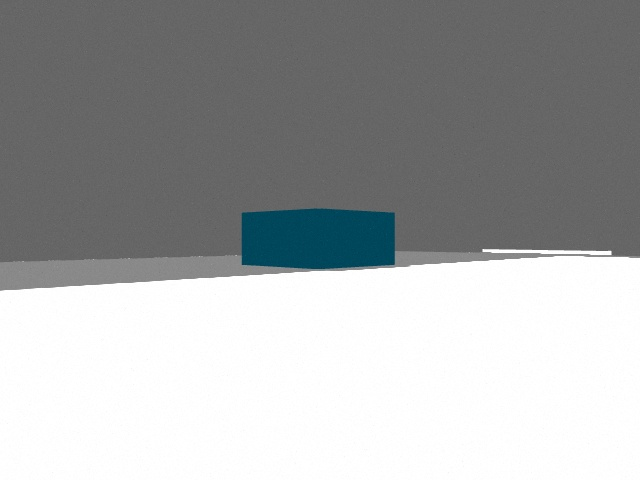blue_drop_zone: (242, 208, 395, 269)
